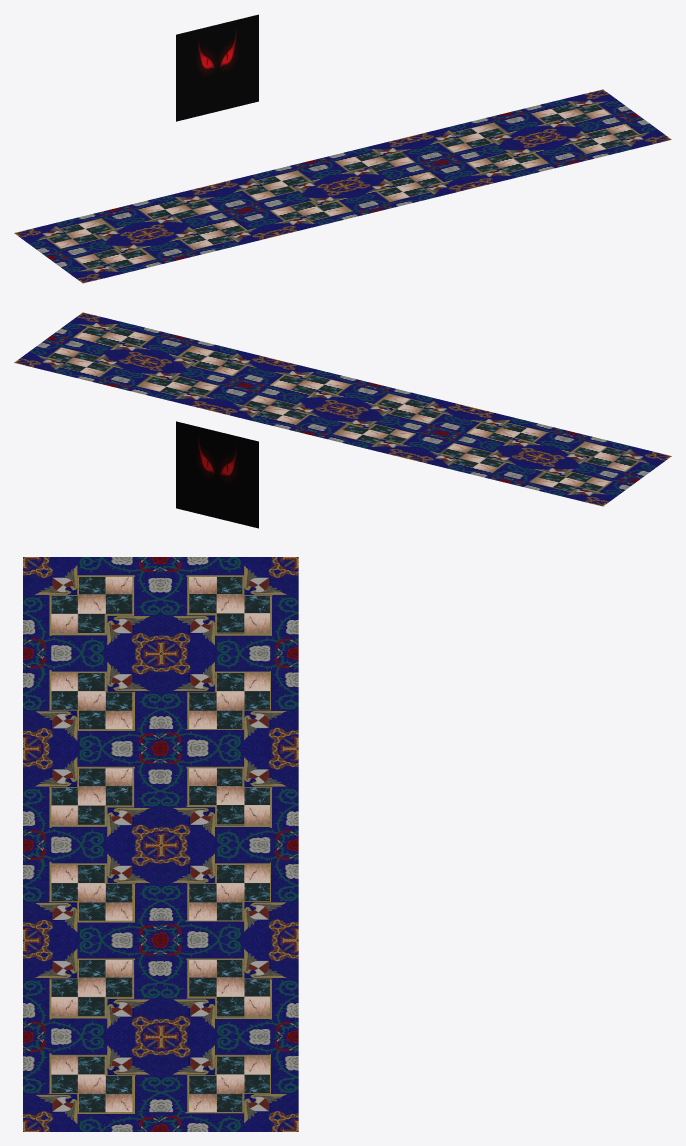
The model's file is EternalDarkness.glb.
The picture shows the model from 3 angles, top to bottom: view 1: azimuth 30°, elevation 25°; view 2: azimuth 150°, elevation 25°; view 3: azimuth 270°, elevation 25°; orthographic projection. The views are drawn at different scales.
Parts seen in each view (by area): view 1: Plane, Plane.002, Plane.001, Plane.003; view 2: Plane.001, Plane.002, Plane, Plane.003; view 3: Plane.002, Plane, Plane.001.
Boxes of the visible parts, left/top/right/bottom form: Plane: left=14, top=185, right=278, bottom=283; Plane.002: left=210, top=137, right=474, bottom=235; Plane.001: left=407, top=89, right=671, bottom=187; Plane.003: left=176, top=14, right=258, bottom=121; Plane.001: left=14, top=312, right=278, bottom=410; Plane.002: left=210, top=360, right=475, bottom=458; Plane: left=407, top=408, right=671, bottom=506; Plane.003: left=176, top=421, right=258, bottom=528; Plane.002: left=23, top=748, right=298, bottom=940; Plane: left=23, top=557, right=298, bottom=748; Plane.001: left=23, top=940, right=298, bottom=1131.
Bounding box in the file's own units: 103 × 14.53 × 48.43.
Materials: 4 (4 with a texture image).
